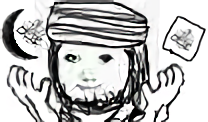dragon: (62, 50, 117, 91)
